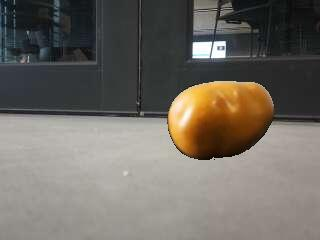Potato: (168, 80, 274, 162)
